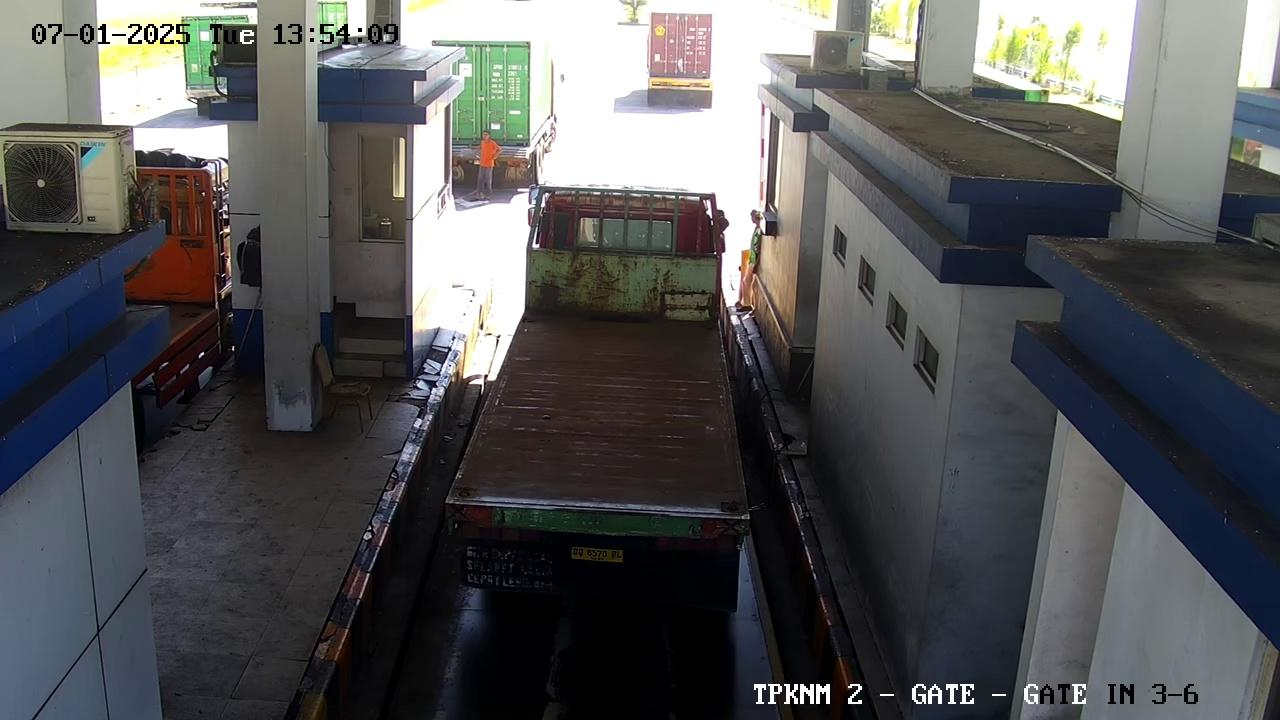plate_number: (553, 540, 635, 570)
